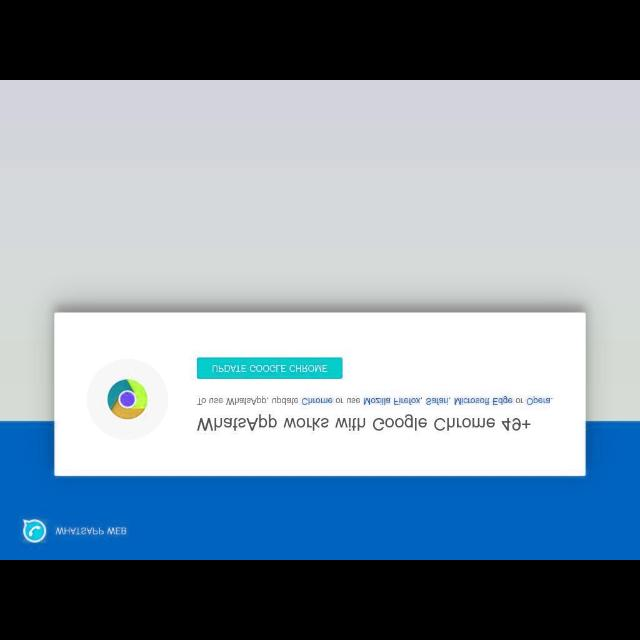image: (108, 380, 148, 420), (22, 516, 48, 544)
panel: (56, 312, 586, 476)
text: (198, 417, 530, 431), (198, 395, 554, 405), (212, 363, 328, 373), (55, 526, 127, 534)
textbutton: (196, 358, 342, 378)
